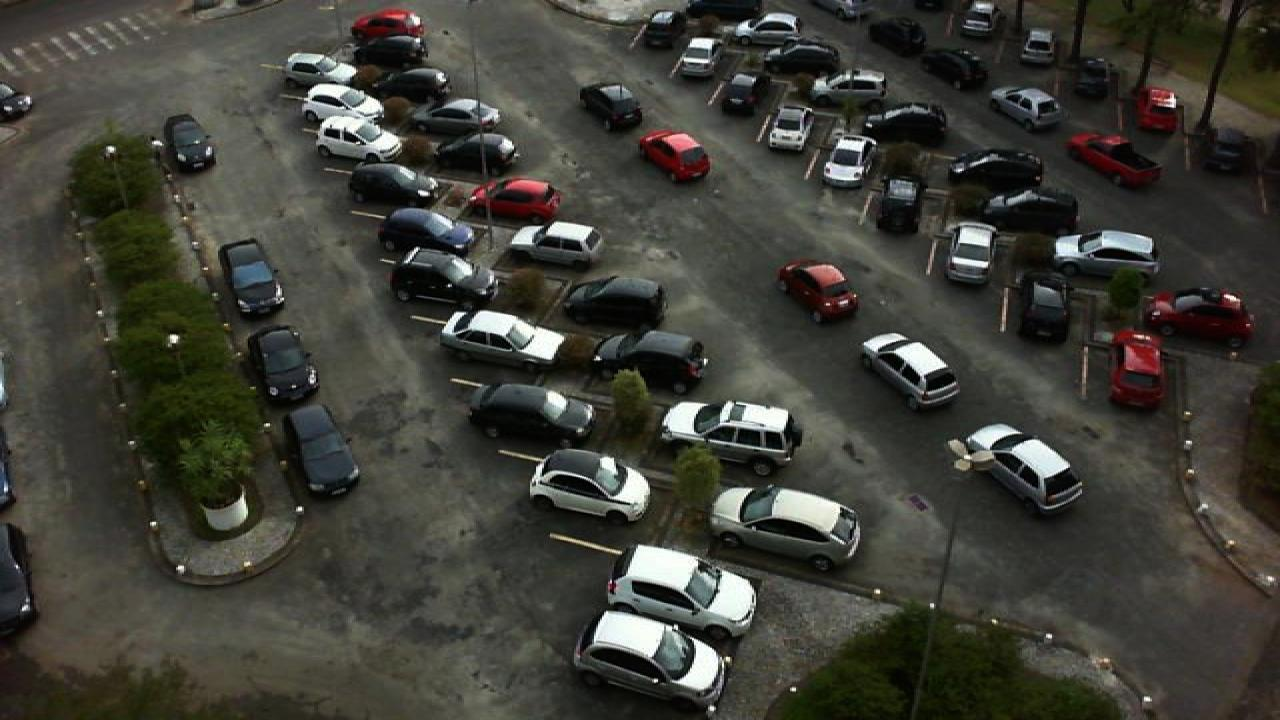Car: (572, 610, 728, 710), (604, 544, 758, 644), (708, 483, 862, 572), (660, 398, 804, 477), (966, 423, 1086, 514), (528, 449, 654, 523), (468, 382, 596, 447), (588, 330, 708, 397), (860, 332, 962, 409), (438, 310, 566, 370), (286, 402, 360, 496), (390, 250, 502, 307), (1140, 287, 1252, 342), (246, 326, 320, 406), (560, 276, 666, 328), (1052, 230, 1160, 280), (218, 239, 286, 318), (778, 258, 858, 322), (1068, 132, 1162, 186), (376, 206, 478, 255), (978, 186, 1080, 234), (1108, 328, 1166, 408), (314, 114, 404, 163), (468, 176, 562, 222), (508, 221, 604, 266), (948, 148, 1044, 192), (348, 162, 440, 205), (638, 129, 712, 181), (860, 102, 950, 144), (298, 82, 384, 125), (1016, 275, 1070, 343), (434, 132, 518, 174), (944, 219, 996, 286), (988, 86, 1062, 132), (410, 98, 498, 136), (580, 81, 644, 131), (162, 114, 216, 172), (376, 65, 452, 105), (920, 47, 992, 89), (874, 174, 924, 234), (282, 52, 358, 90), (824, 133, 876, 187), (762, 37, 838, 73), (350, 34, 428, 68), (766, 102, 814, 152), (810, 69, 886, 100), (1136, 84, 1182, 133), (1206, 128, 1254, 174), (870, 18, 926, 57), (736, 12, 804, 44), (350, 9, 424, 37), (722, 71, 766, 116), (678, 37, 722, 79), (1070, 54, 1110, 98), (640, 9, 684, 47), (686, 0, 762, 20), (958, 0, 998, 37), (1020, 27, 1058, 64)
